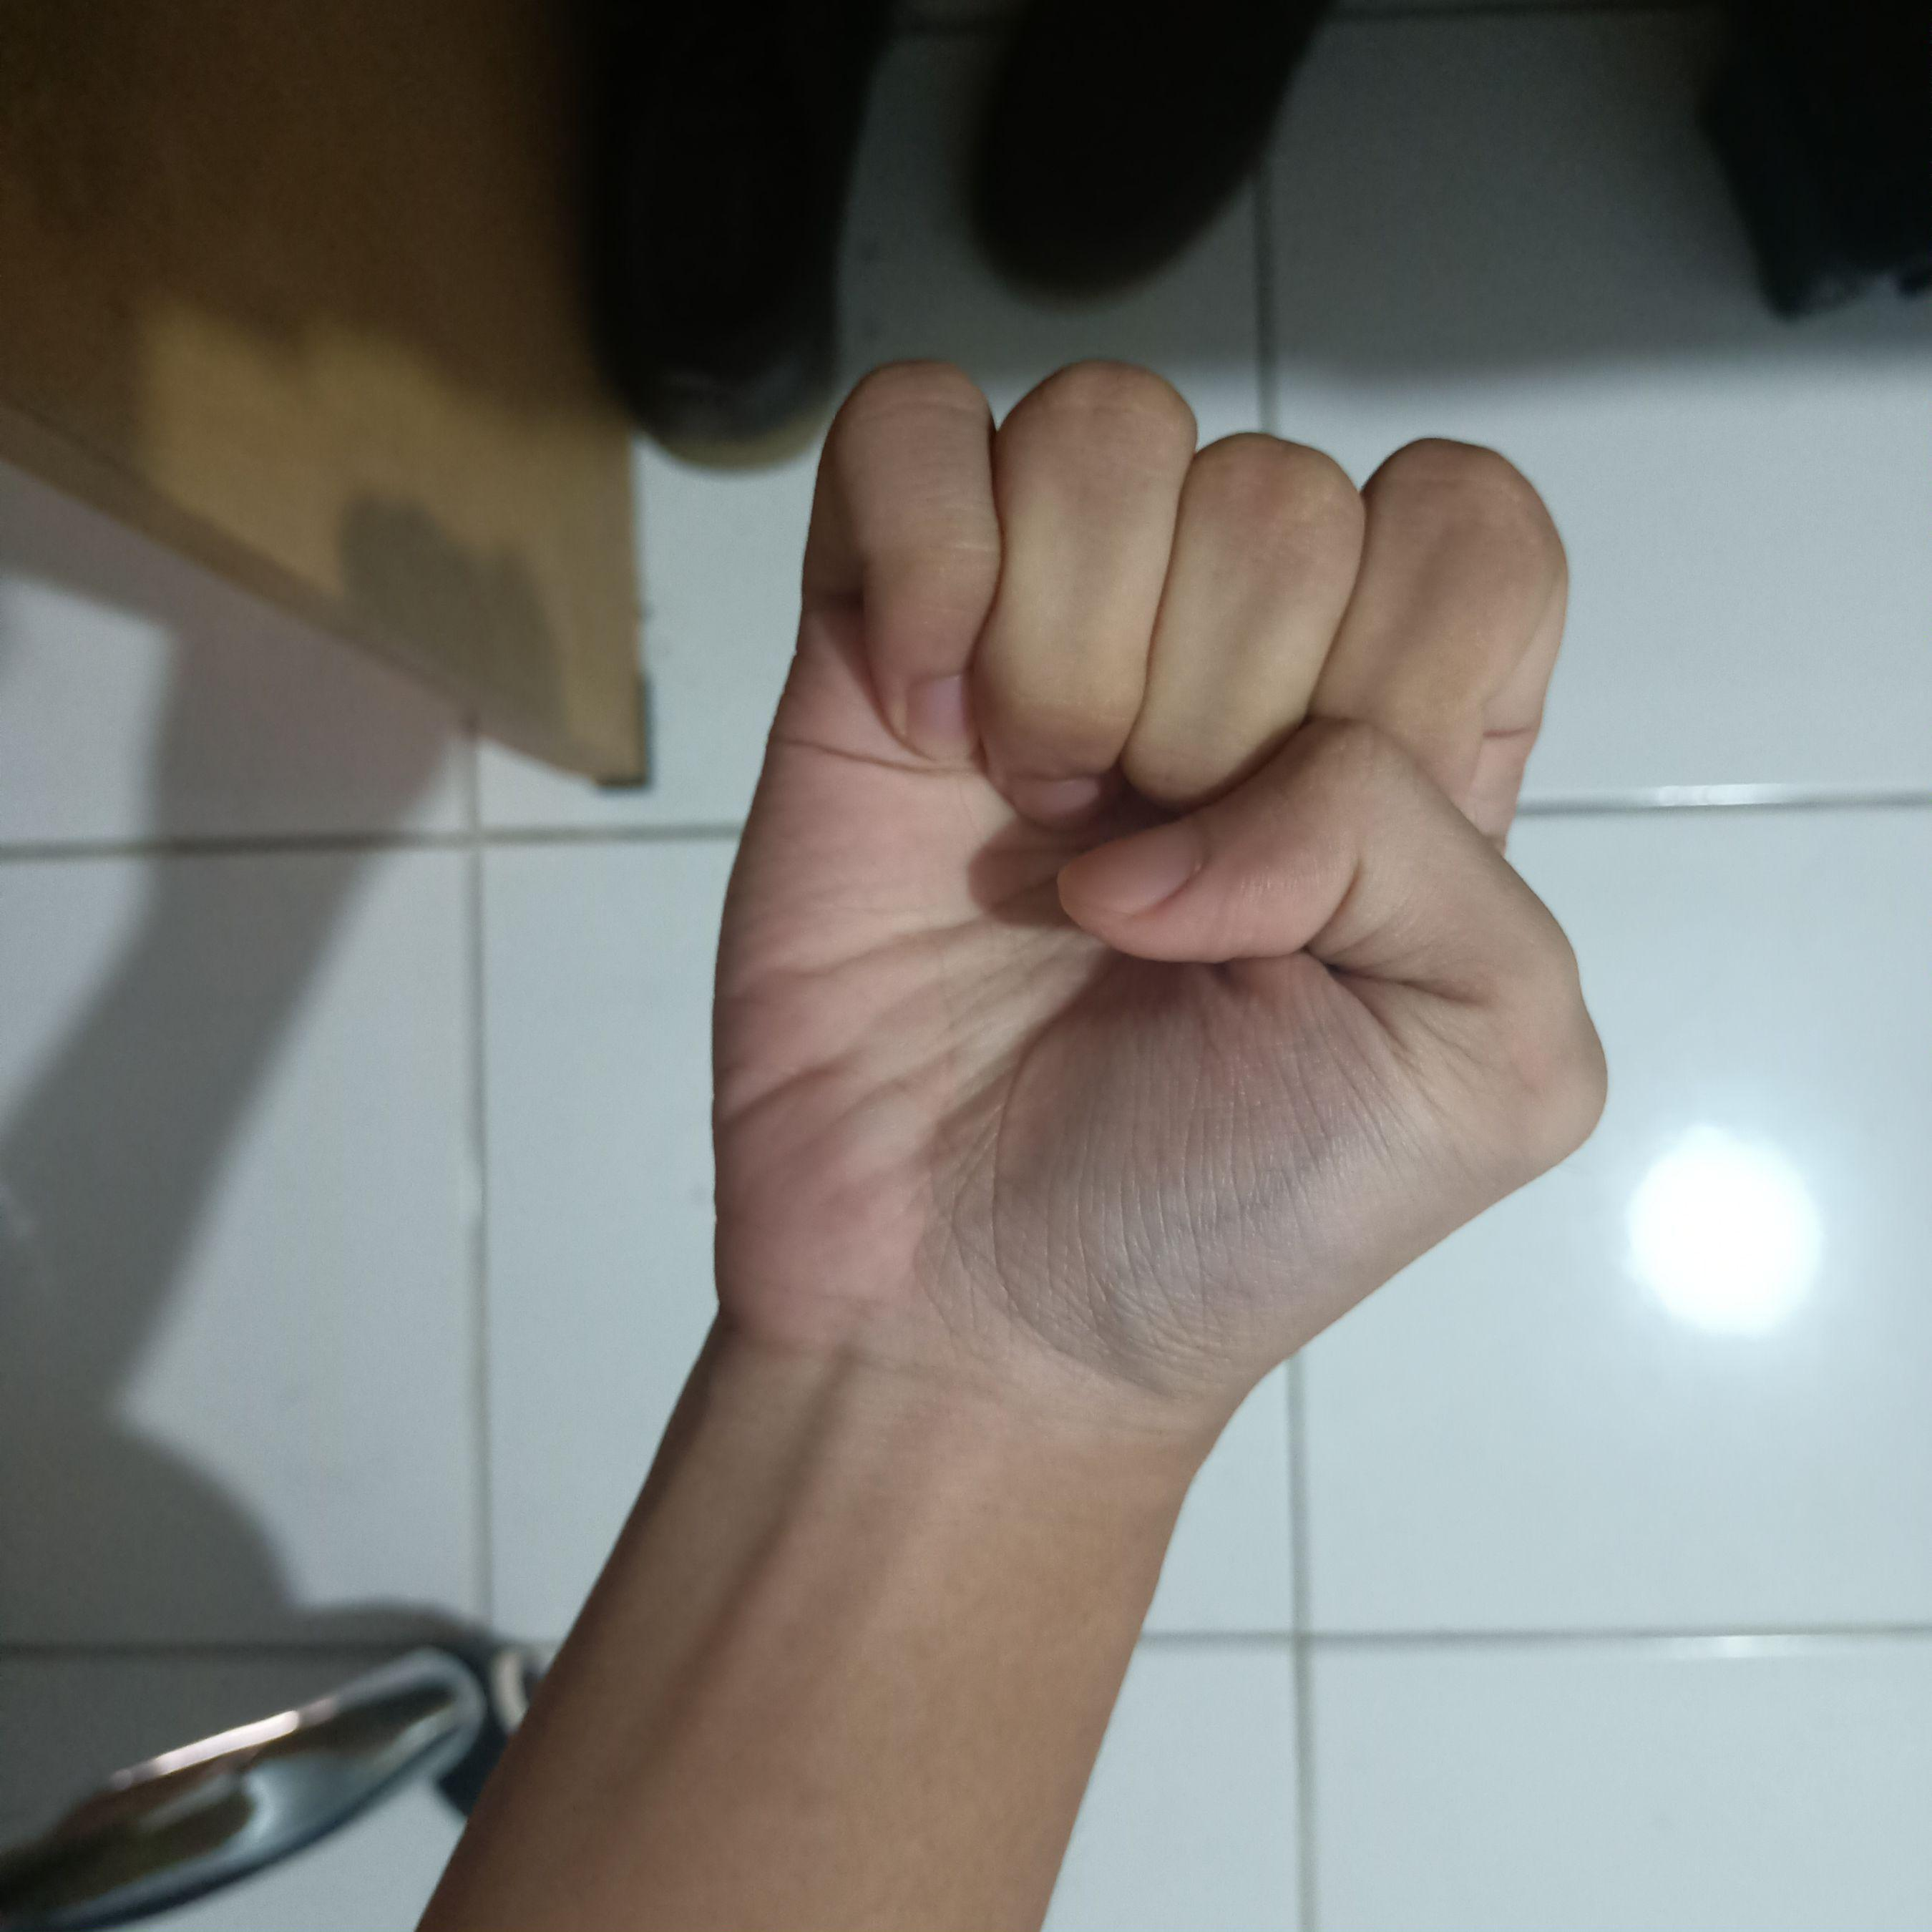rock: (699, 313, 1624, 1453)
